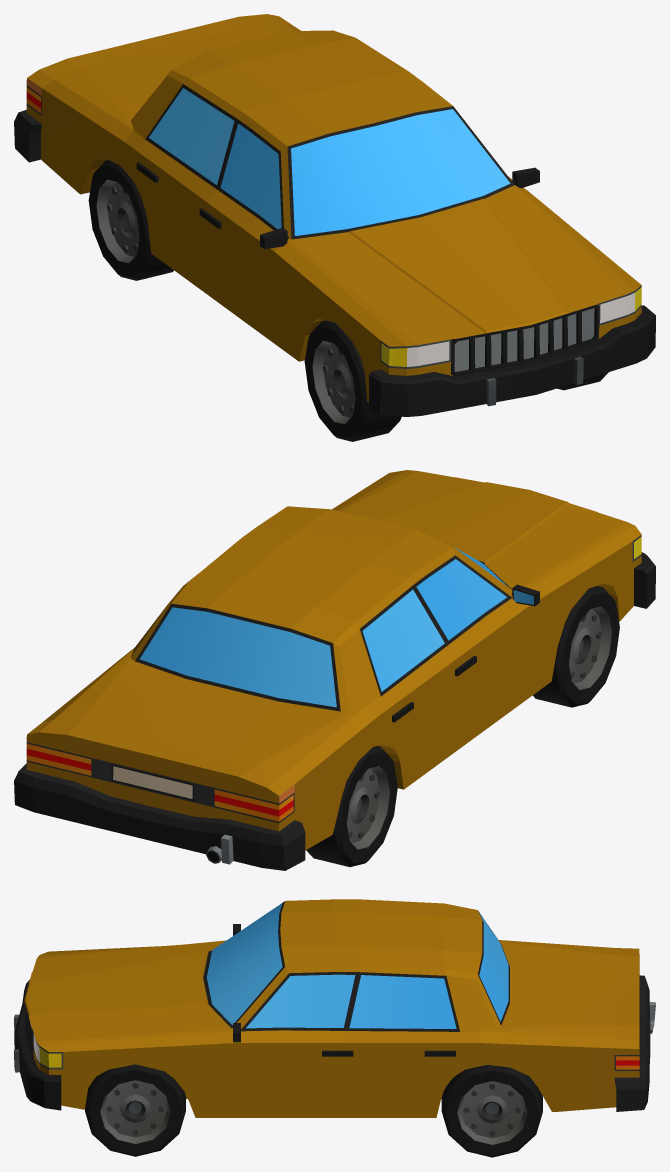
Rendered from sarı araba.fbx.
3 renders of one model, top to bottom at view 1: azimuth 30°, elevation 25°; view 2: azimuth 150°, elevation 25°; view 3: azimuth 270°, elevation 25°, orthographic. The views are drawn at different scales.
Visible parts, largest first — view 1: Classic Car_9; view 2: Classic Car_9; view 3: Classic Car_9.
Part boxes in pixels (x1,y1,x2,y2): Classic Car_9: [14, 14, 655, 441]; Classic Car_9: [14, 470, 655, 870]; Classic Car_9: [14, 899, 655, 1157].
Size of the model in its own units: 202 by 153 by 497.
1 material, 1 textured.
